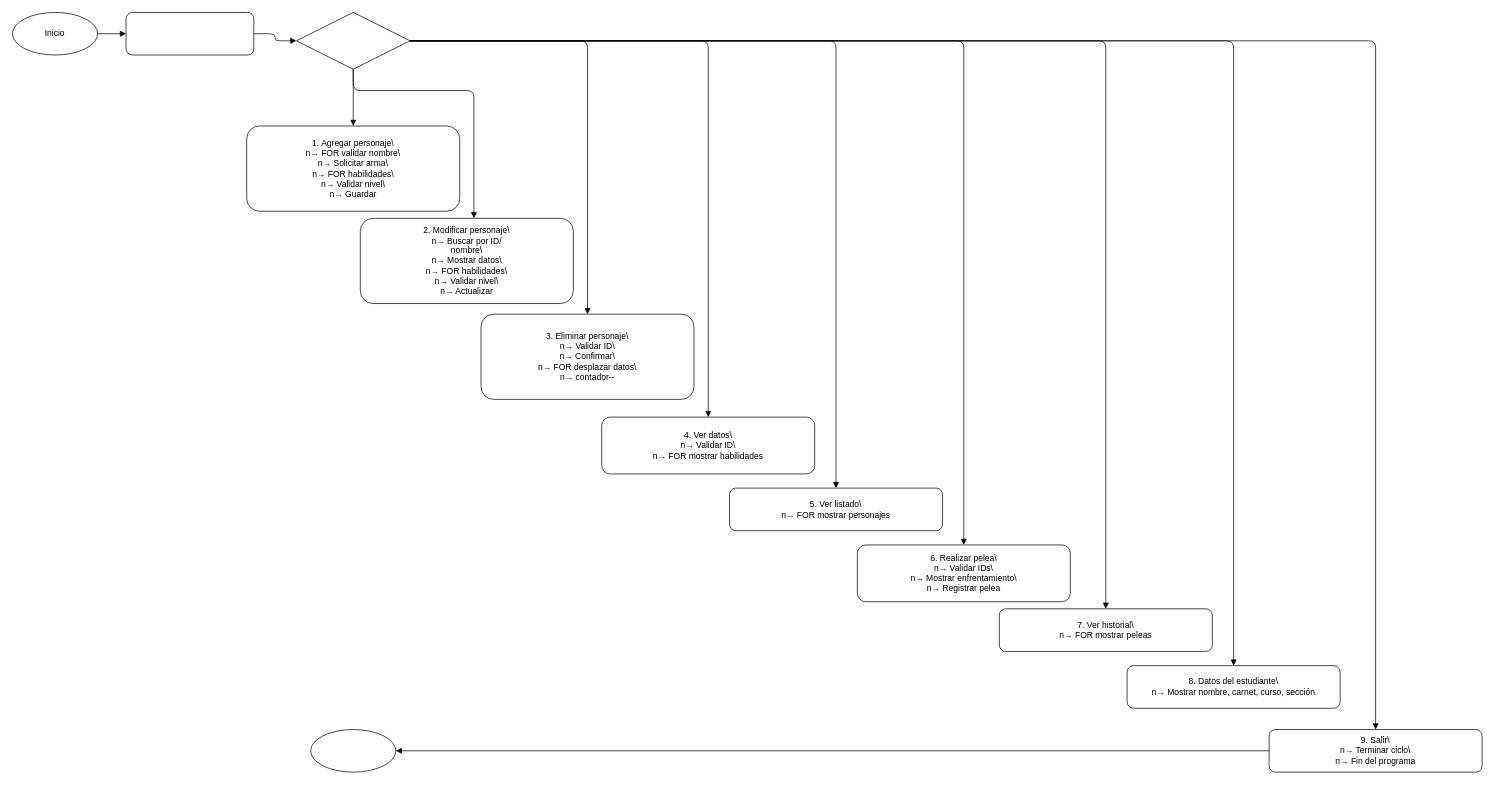
This 1495x785 diagram has some shape labels left out. The shapes that lost their labels are listed below. From the top down, each one's centre as x and y in pixels, then its label:
At (189,33): "Mostrar menú principal".
At (353,40): "Ingrese una opcion:".
At (353,750): "Fin del programa".
